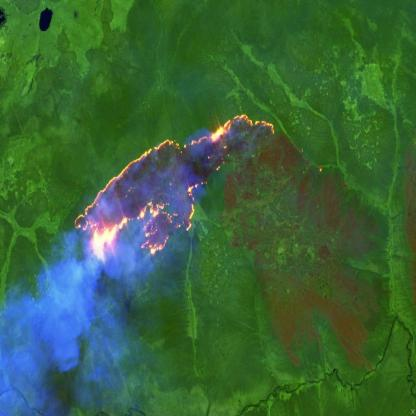fire: (72, 111, 276, 273)
